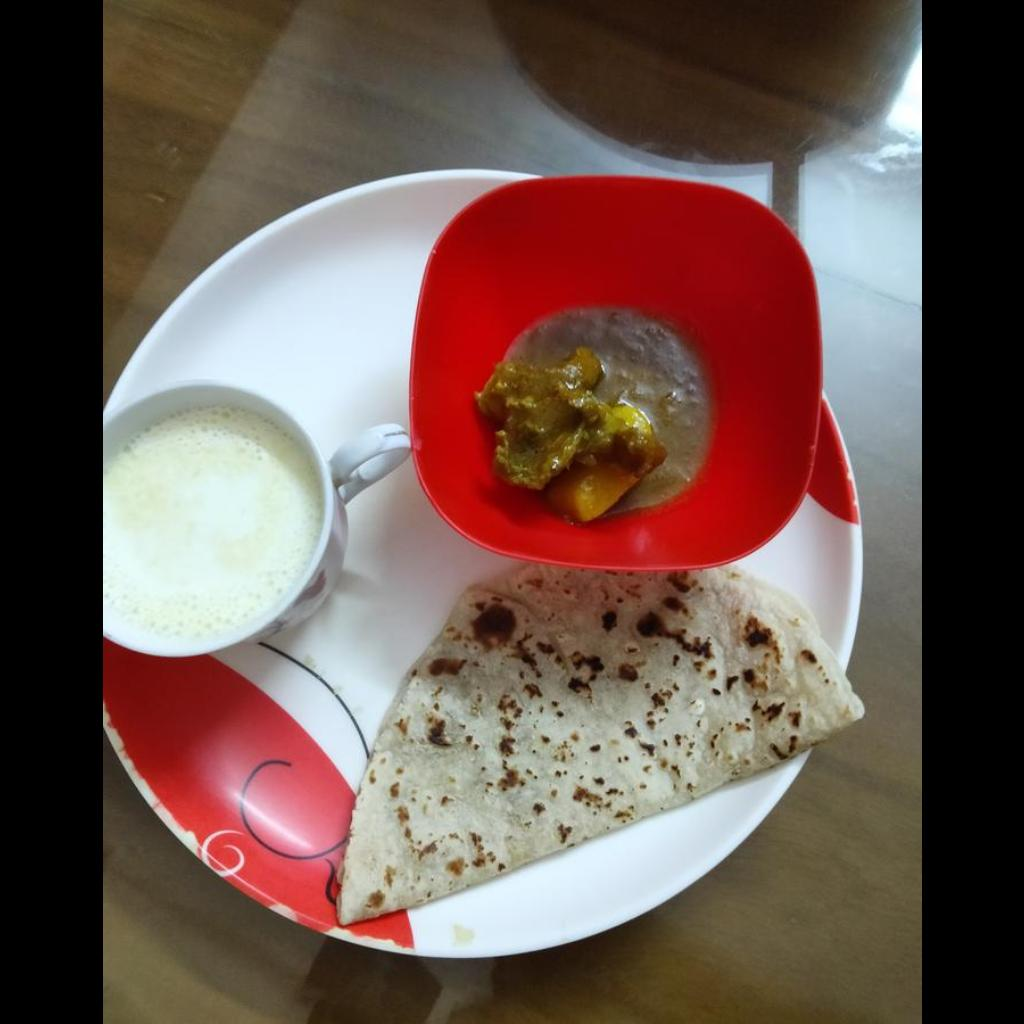beef: (467, 351, 675, 519)
milk: (102, 408, 317, 633)
ruti: (332, 567, 867, 911)
